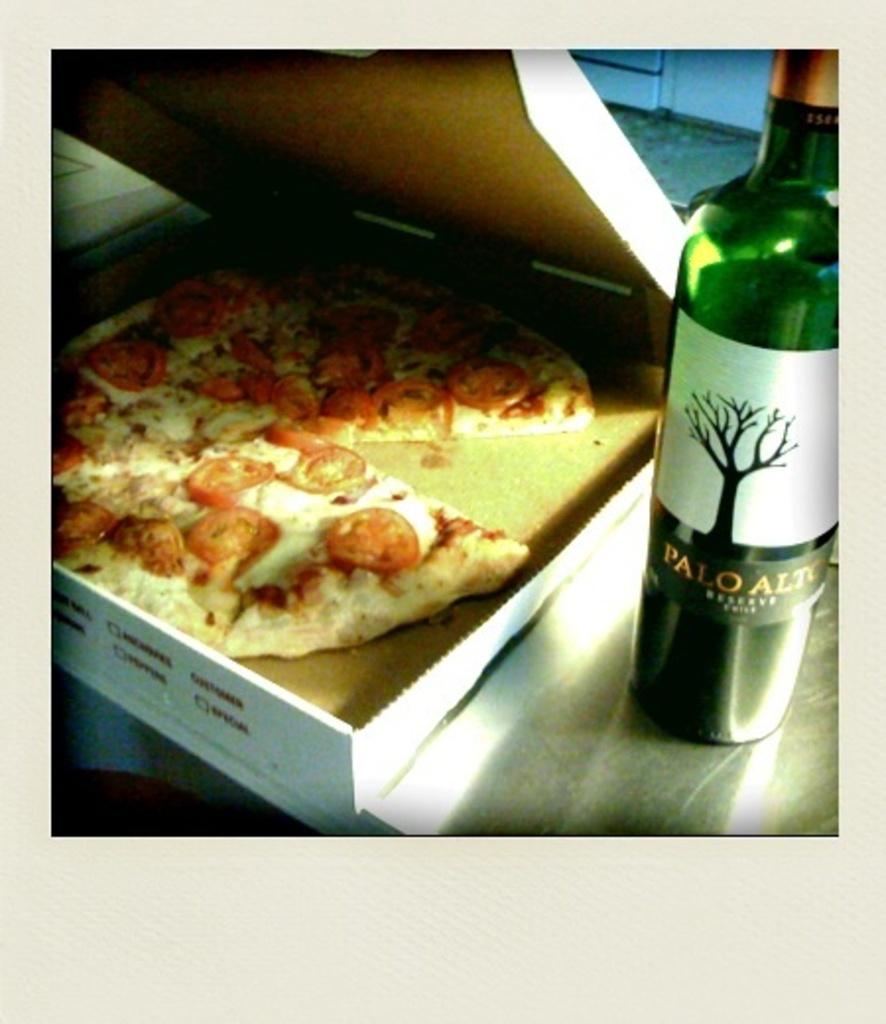Pizza: (220, 429, 539, 640), (51, 419, 253, 641), (92, 279, 289, 417), (348, 289, 533, 419), (74, 362, 236, 502), (293, 273, 399, 425), (391, 342, 584, 419)
